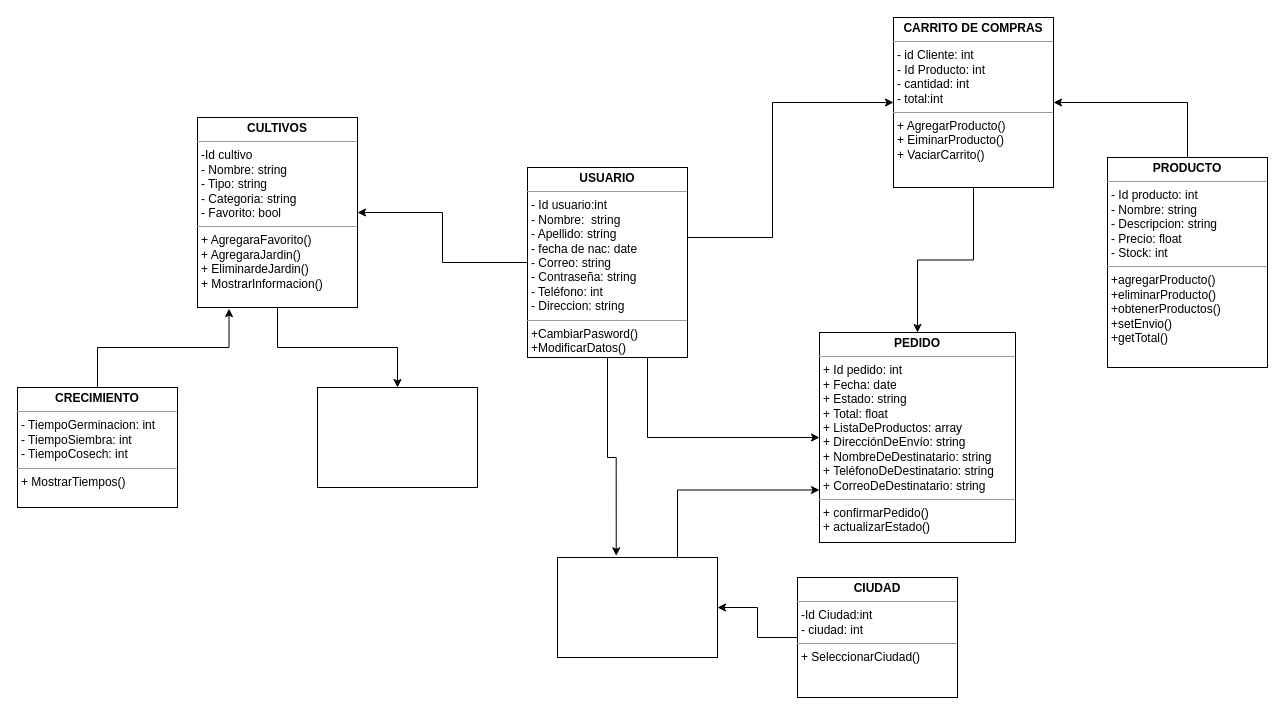
This 1285x715 diagram has some shape labels left out. Each missing label, with the box of its shape:
JARDIN -Cltivos: array + MostrarHuerta(): (316, 386, 478, 488)
PROVINCIA - provincia: string + SeleccionarProvincia(): (556, 556, 718, 658)
